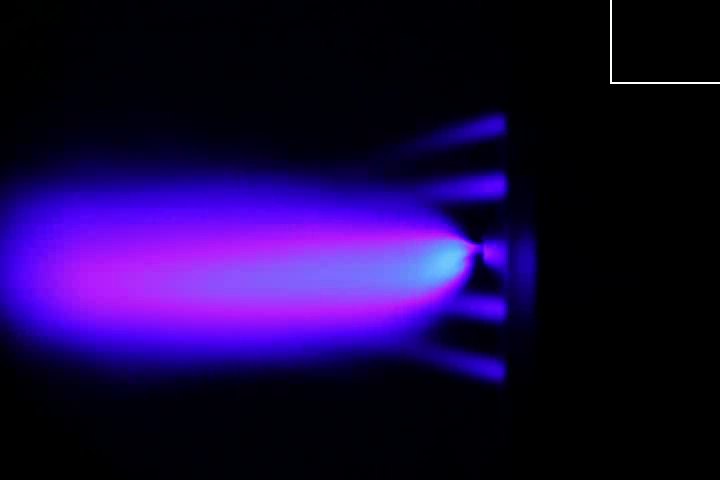burner cap: (483, 233, 505, 270)
pilot flame: (371, 104, 504, 148), (406, 164, 506, 208), (412, 345, 507, 383), (430, 292, 510, 324)
stable: (97, 222, 485, 306)
